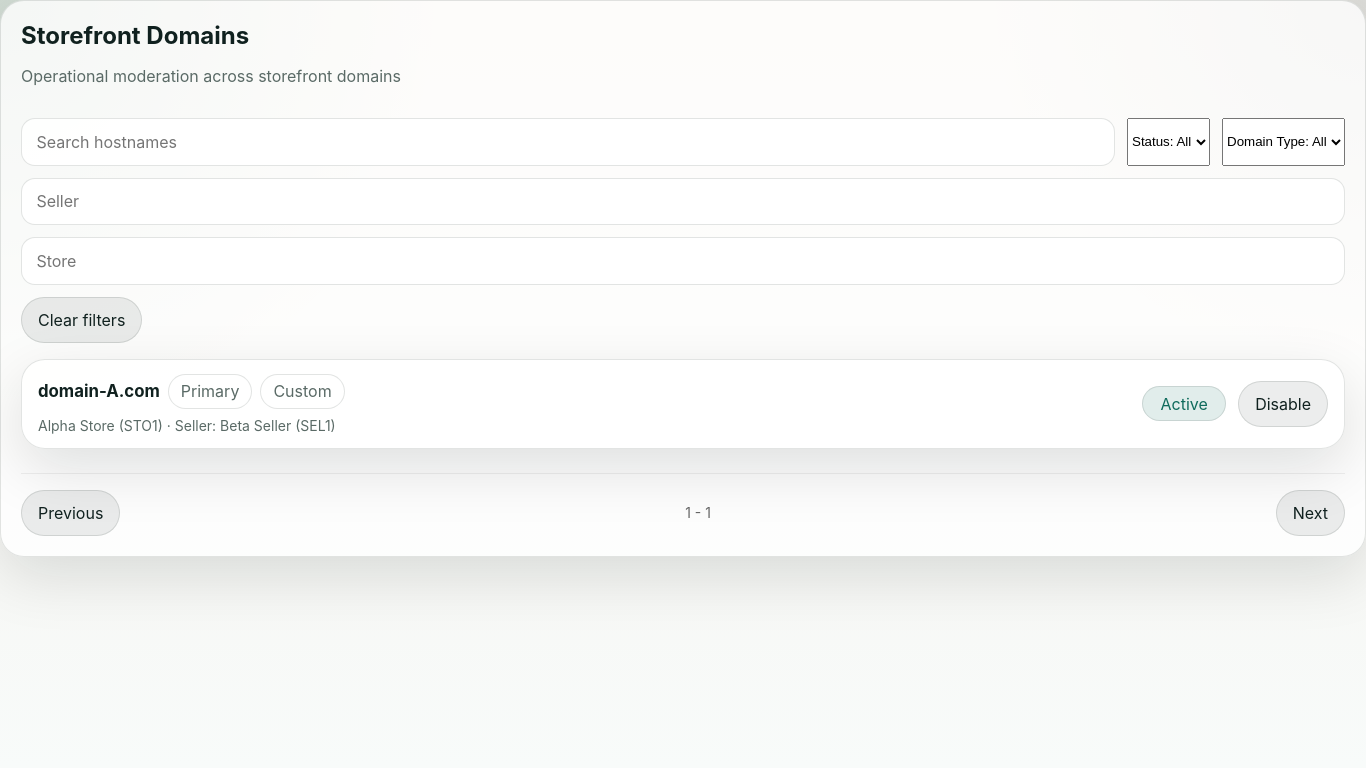
Test case: DomainModerationPanel › prevents action started during search debounce window from resurrecting pre-search view when debounce commits
Check: the text "domain-A.com" is shown, box left=38, top=381, right=160, bottom=401
Type Search B into raw input
Type "B" into the field with placeholder "Search hostnames" at (568, 142), box left=21, top=118, right=1115, bottom=166
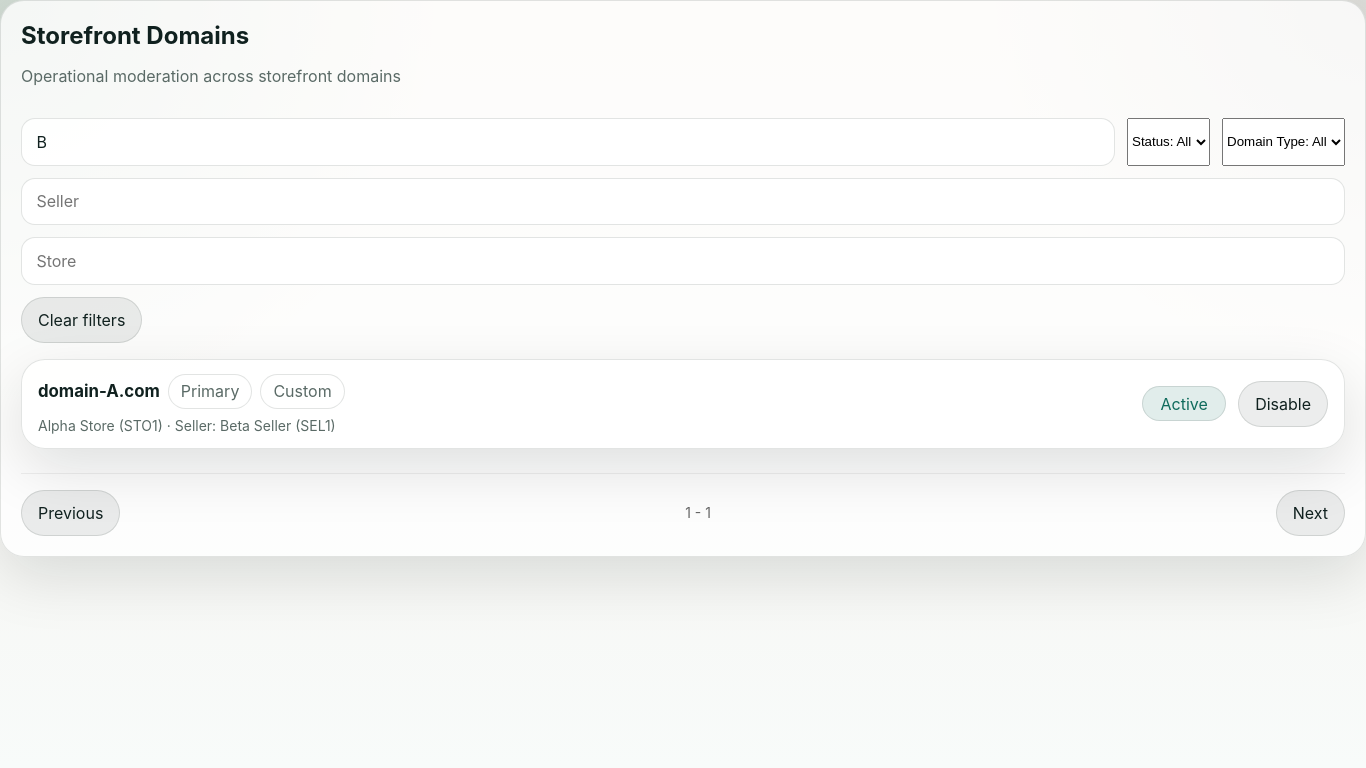
Click the button with test id "disable-btn-dom-A" at (1283, 404), box left=1238, top=381, right=1328, bottom=427
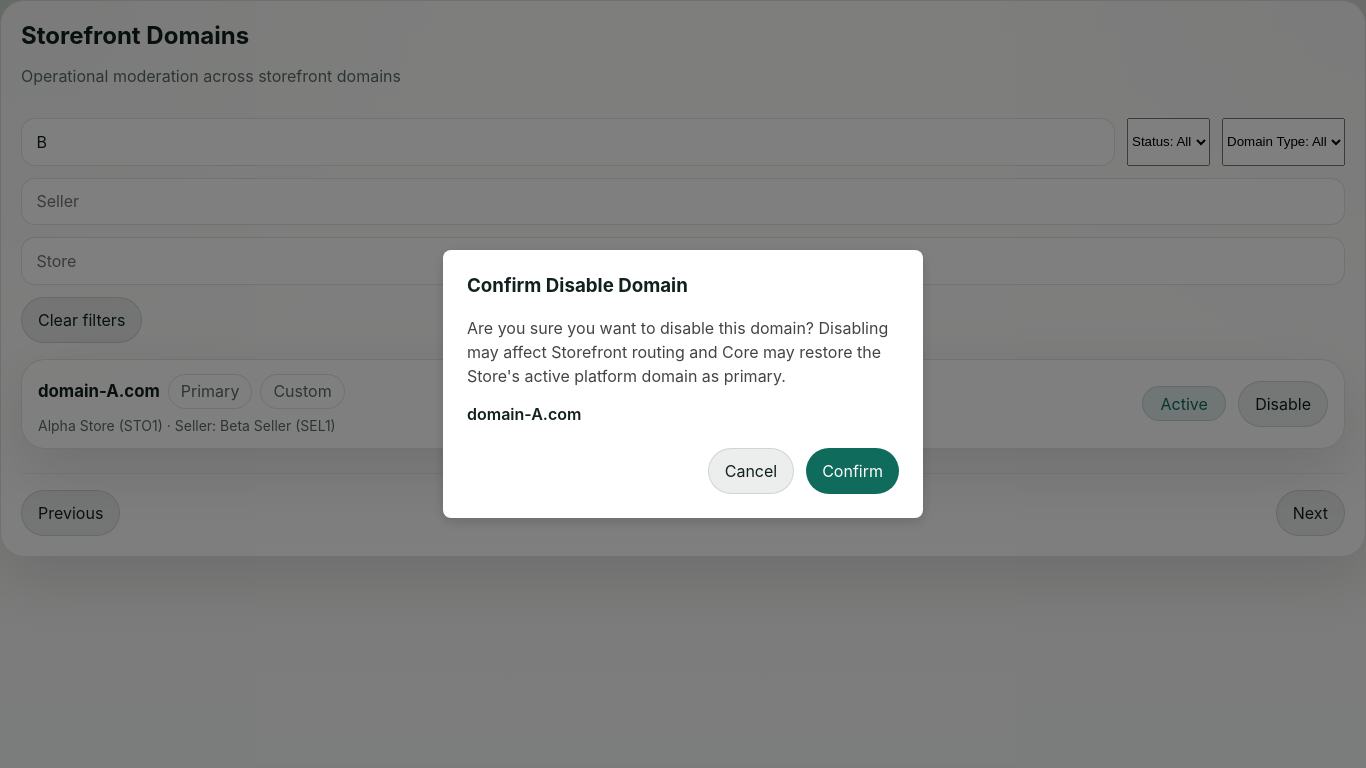
Click the button with test id "confirm-submit" at (853, 471), box left=806, top=448, right=899, bottom=494
Wait 300 ms
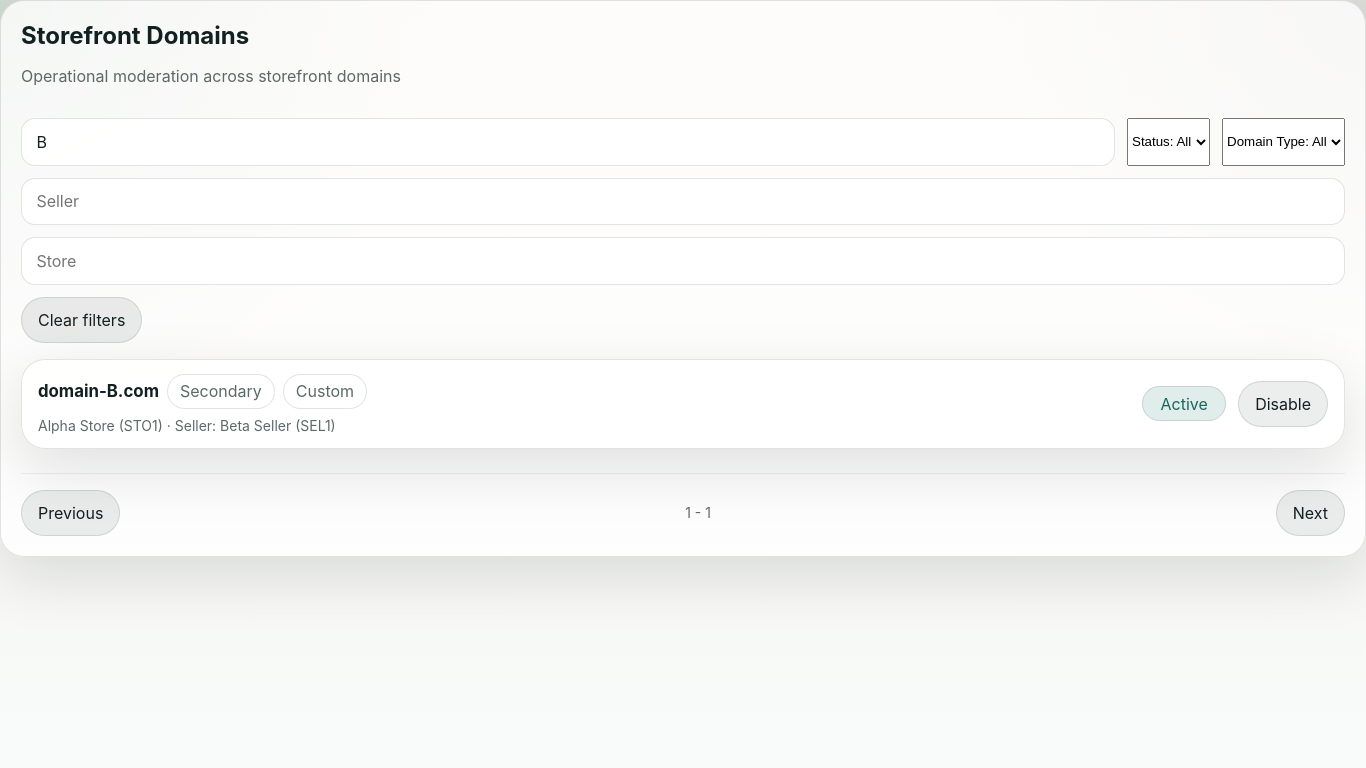
Check: the text "domain-B.com" is shown, box left=38, top=381, right=159, bottom=401
Check: the text "domain-A.com" is gone
